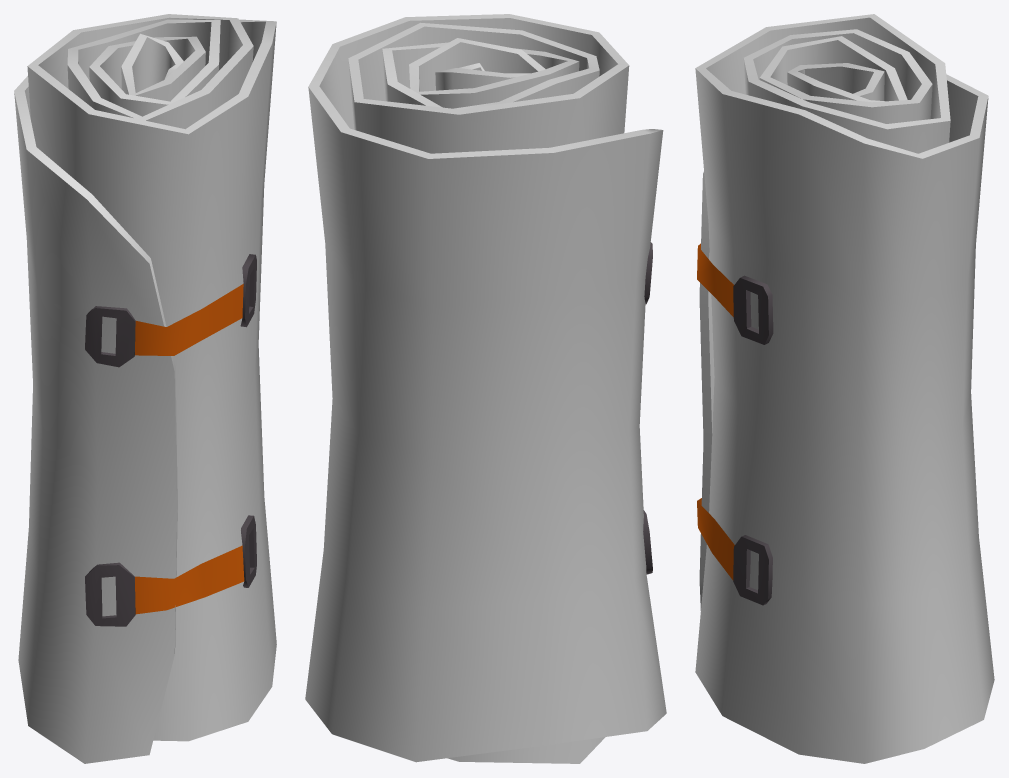
Rendered from bandgae1.fbx.
3 renders of one model, left to right at view 1: azimuth 30°, elevation 25°; view 2: azimuth 150°, elevation 25°; view 3: azimuth 270°, elevation 25°, orthographic. The views are drawn at different scales.
Parts seen in each view (by area): view 1: Vert, Plane.001, Plane; view 2: Vert; view 3: Vert, Plane.001, Plane.
Part boxes in pixels (x1=…): Vert: x1=14, y1=14, x2=276, y2=763; Plane.001: x1=85, y1=515, x2=256, y2=626; Plane: x1=85, y1=254, x2=256, y2=367; Vert: x1=305, y1=14, x2=666, y2=763; Vert: x1=695, y1=14, x2=994, y2=763; Plane.001: x1=697, y1=498, x2=772, y2=605; Plane: x1=697, y1=243, x2=773, y2=344.
Size of the model in its own units: 23.98 by 52.94 by 22.38.
